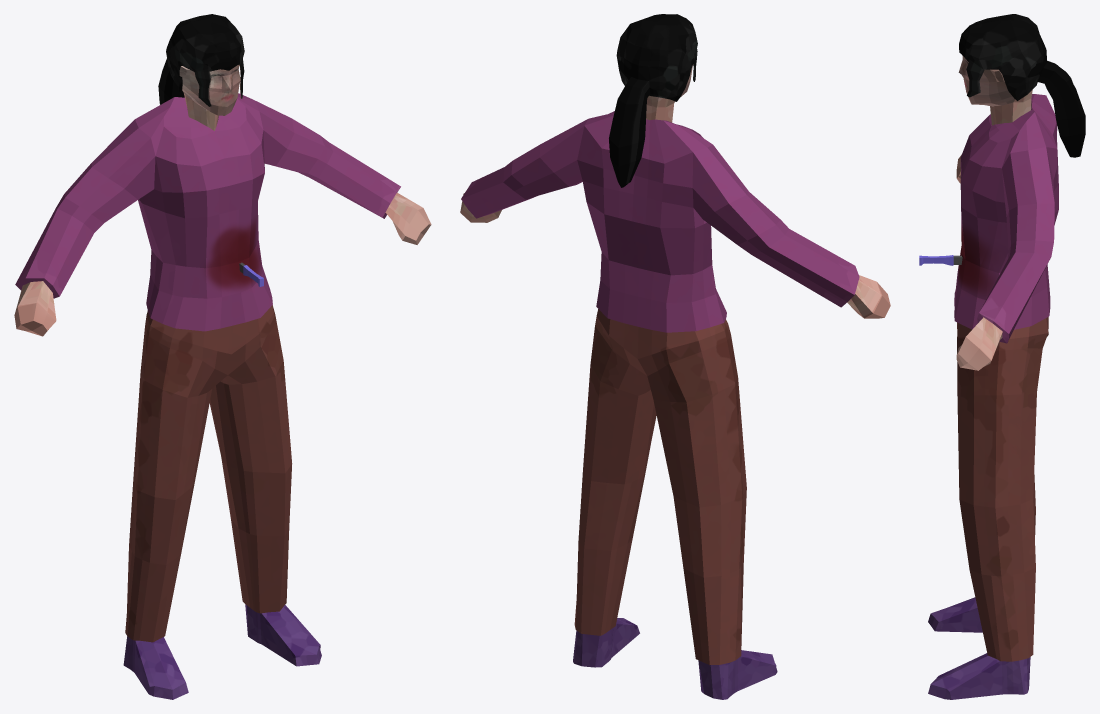
Rendered from Reiko.fbx.
3 renders of one model, left to right at view 1: azimuth 30°, elevation 25°; view 2: azimuth 150°, elevation 25°; view 3: azimuth 270°, elevation 25°, orthographic. The views are drawn at different scales.
Visible parts, largest first — view 1: Reiko; view 2: Reiko; view 3: Reiko.
Boxes of the visible parts, x1,y1,x2,y2 form: Reiko: [14, 14, 431, 699]; Reiko: [460, 14, 890, 699]; Reiko: [919, 14, 1085, 699].
Size of the model in its own units: 802 by 1182 by 279.
3 materials, 1 textured.
